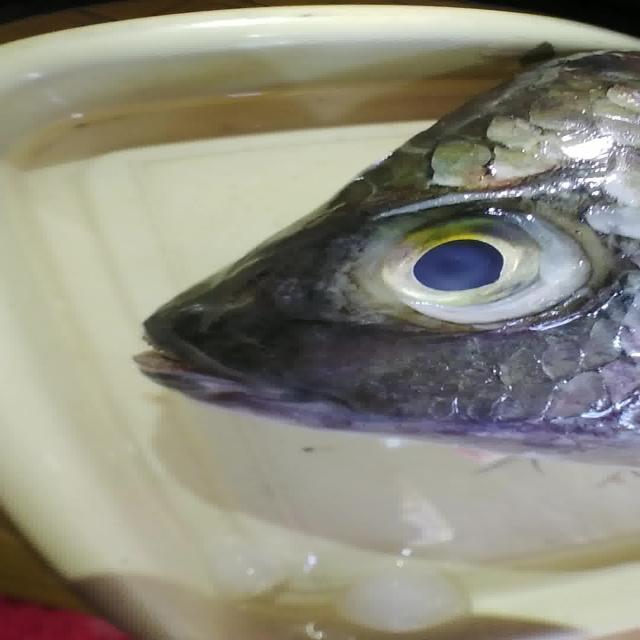Fresh: (346, 202, 617, 342)
